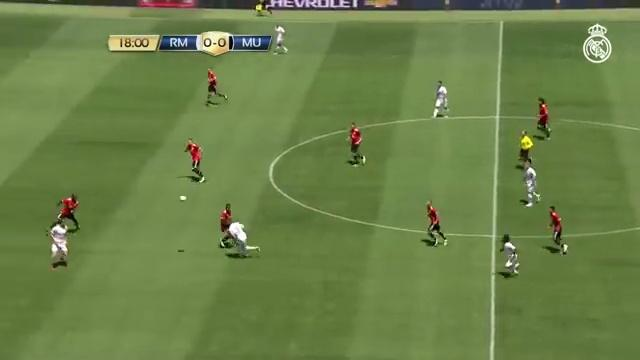football: (178, 193, 188, 204)
player: (227, 222, 259, 256), (50, 194, 79, 230), (49, 219, 68, 269), (549, 206, 567, 254), (184, 139, 204, 182), (427, 201, 446, 245), (500, 234, 519, 274), (206, 69, 227, 105), (524, 160, 540, 206), (348, 123, 365, 165), (219, 203, 232, 247), (537, 97, 550, 139), (433, 81, 448, 117), (274, 25, 287, 53)
referee: (519, 131, 533, 165), (255, 0, 272, 15)
